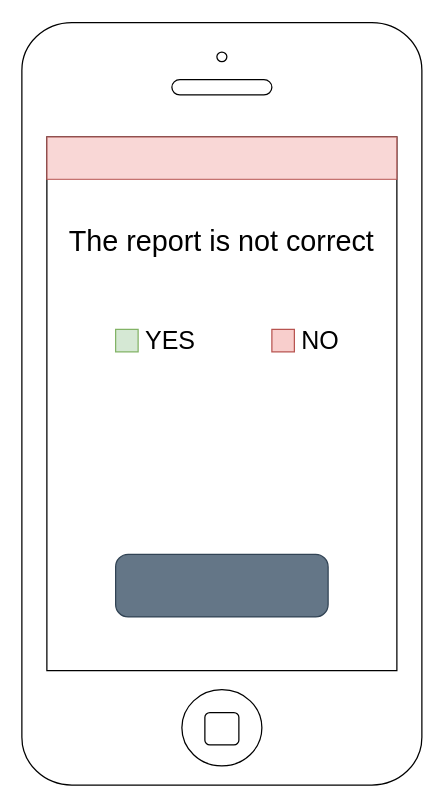
Some shapes in this 444 by 806 pixel diagram are drawn without their labels. Here are the shapes that lost their labels. From the top down, the box of each, then its label:
(46, 136, 397, 179): Under investigation
(114, 553, 328, 617): SEND
